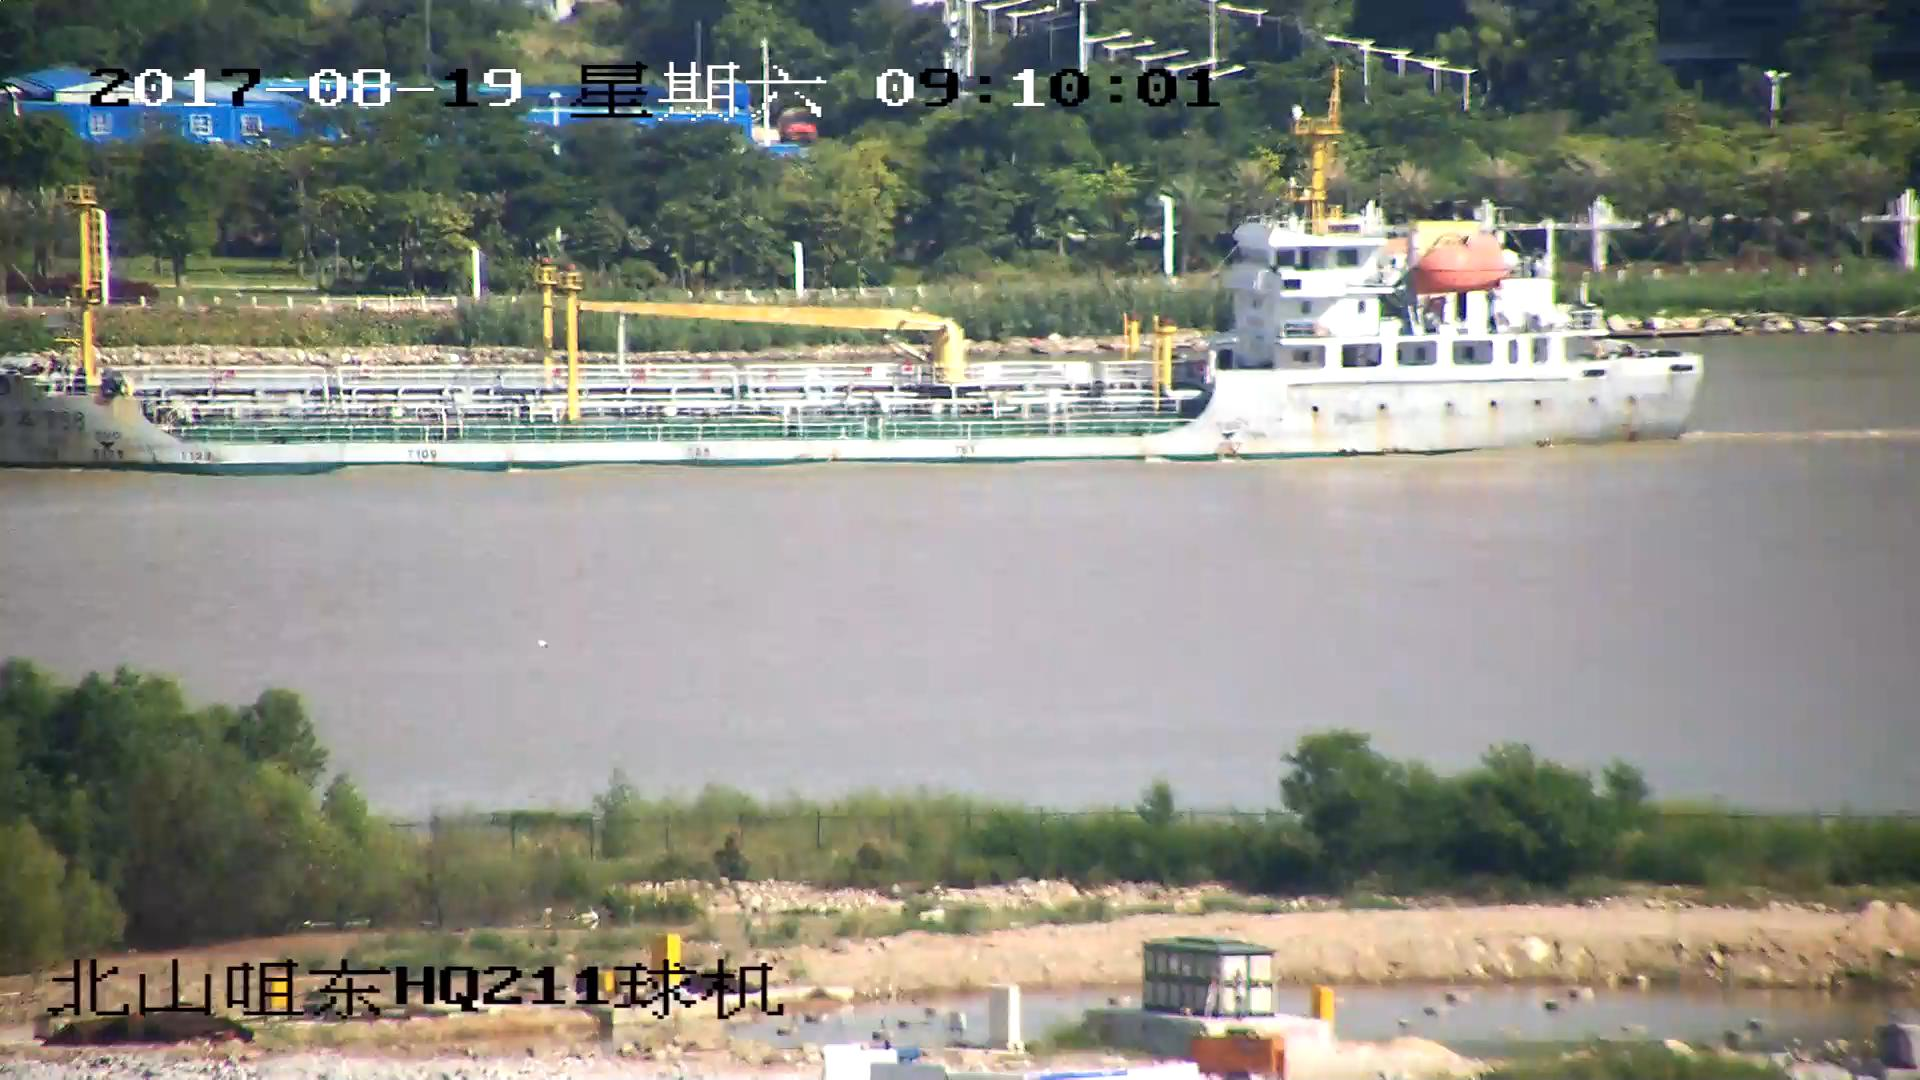general cargo ship: (1, 132, 1721, 464)
